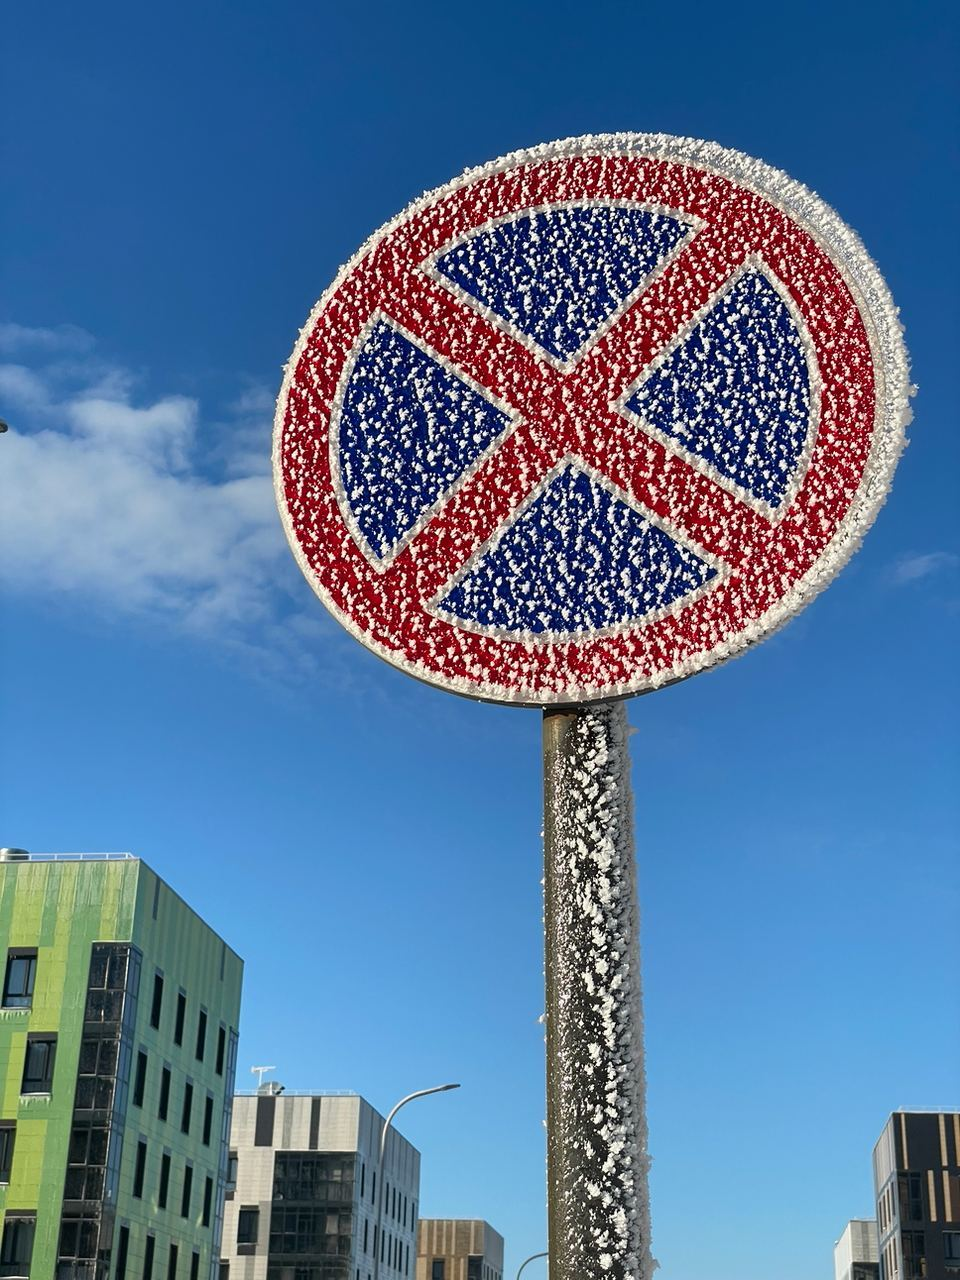sign: (259, 118, 910, 710)
